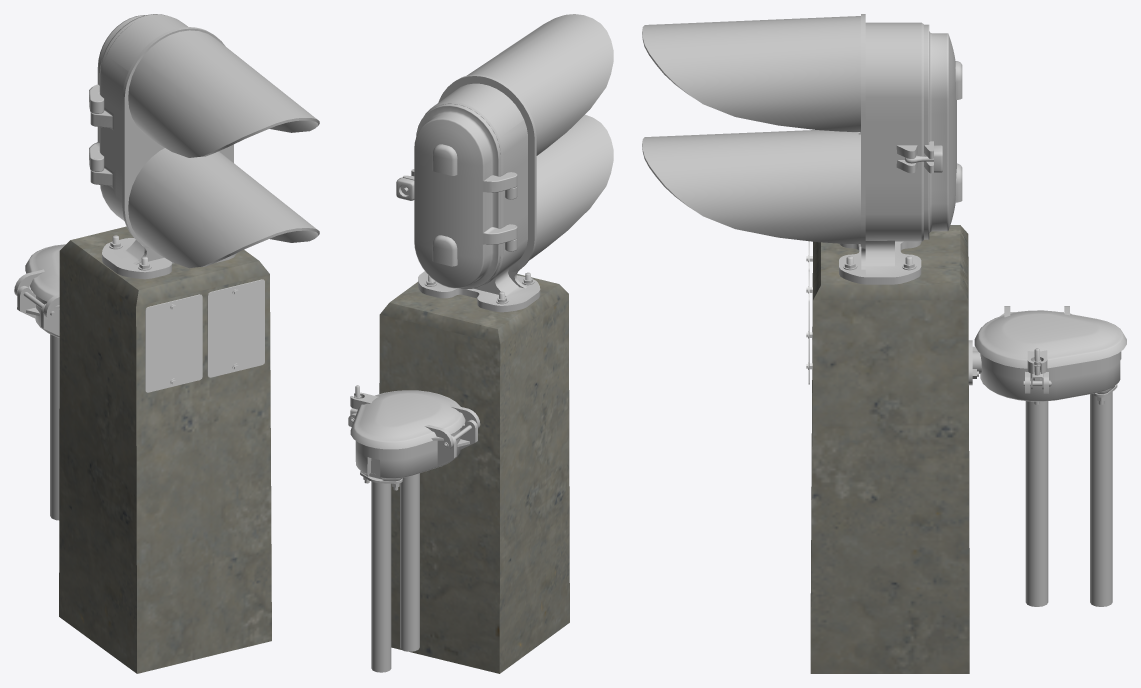
Rendered from RWLight_DWARF_DUBLE.fbx.
The picture shows the model from 3 angles, left to right: view 1: azimuth 30°, elevation 25°; view 2: azimuth 150°, elevation 25°; view 3: azimuth 270°, elevation 25°; orthographic projection. The views are drawn at different scales.
Visible parts, largest first — view 1: RWLight_DWARF_DUBLE_OSNOVA, RWLight_DWARF_DUBLE, RWLight_DWARF_DUBLE_Muft, TLight_H1_Lab1, TLight_H1_Lab1.001; view 2: RWLight_DWARF_DUBLE_OSNOVA, RWLight_DWARF_DUBLE, RWLight_DWARF_DUBLE_Muft; view 3: RWLight_DWARF_DUBLE_OSNOVA, RWLight_DWARF_DUBLE, RWLight_DWARF_DUBLE_Muft.
Part boxes in pixels (x1,y1,x2,y2): RWLight_DWARF_DUBLE_OSNOVA: [59, 226, 271, 673]; RWLight_DWARF_DUBLE: [89, 14, 319, 279]; RWLight_DWARF_DUBLE_Muft: [14, 235, 151, 520]; TLight_H1_Lab1: [145, 294, 202, 392]; TLight_H1_Lab1.001: [207, 279, 264, 377]; RWLight_DWARF_DUBLE_OSNOVA: [379, 274, 569, 673]; RWLight_DWARF_DUBLE: [396, 14, 613, 312]; RWLight_DWARF_DUBLE_Muft: [348, 272, 534, 672]; RWLight_DWARF_DUBLE_OSNOVA: [810, 225, 969, 673]; RWLight_DWARF_DUBLE: [642, 14, 962, 284]; RWLight_DWARF_DUBLE_Muft: [843, 256, 1126, 606].
Size of the model in its own units: 316 by 1362 by 965.
